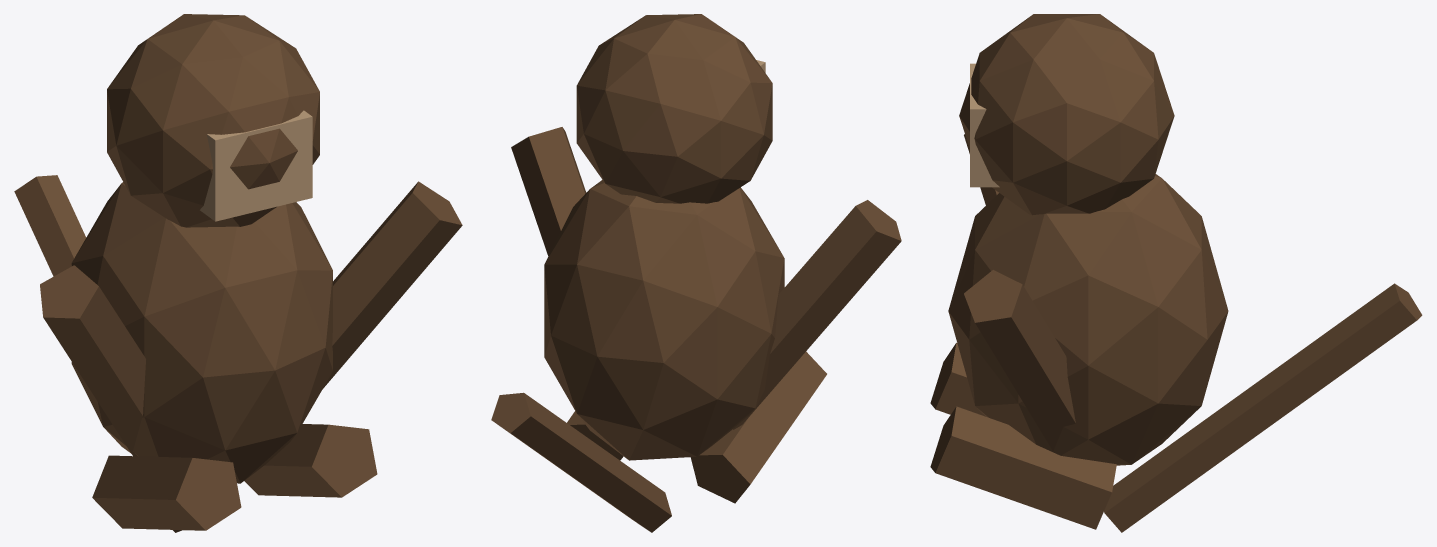
The model's file is monyet.glb.
3 renders of one model, left to right at view 1: azimuth 30°, elevation 25°; view 2: azimuth 150°, elevation 25°; view 3: azimuth 270°, elevation 25°, orthographic. The views are drawn at different scales.
Parts seen in each view (by area): view 1: kbs_monyet; view 2: kbs_monyet; view 3: kbs_monyet.
Part boxes in pixels (x1=…): kbs_monyet: x1=14, y1=14, x2=462, y2=532; kbs_monyet: x1=491, y1=14, x2=901, y2=532; kbs_monyet: x1=930, y1=14, x2=1422, y2=532.
Size of the model in its own units: 0.489 by 0.6 by 0.5218.
